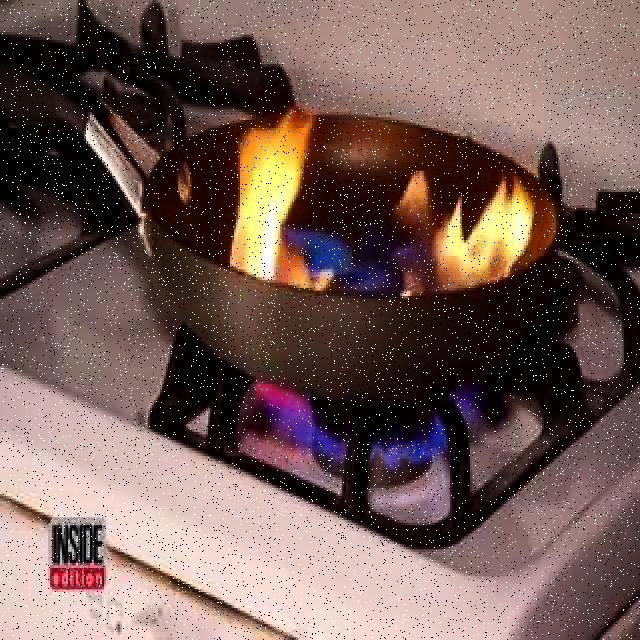fire: (402, 164, 543, 295), (261, 388, 493, 464), (234, 114, 322, 284)
